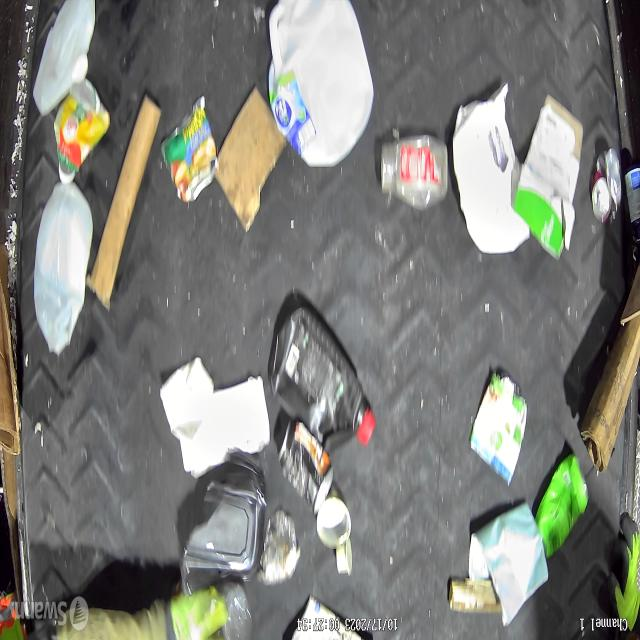can: (162, 102, 216, 204), (276, 422, 334, 513), (591, 150, 621, 226)
milk_jug: (269, 0, 374, 172), (450, 104, 530, 254), (34, 184, 92, 356), (33, 1, 94, 118)
non_white_jug: (269, 310, 376, 448)
